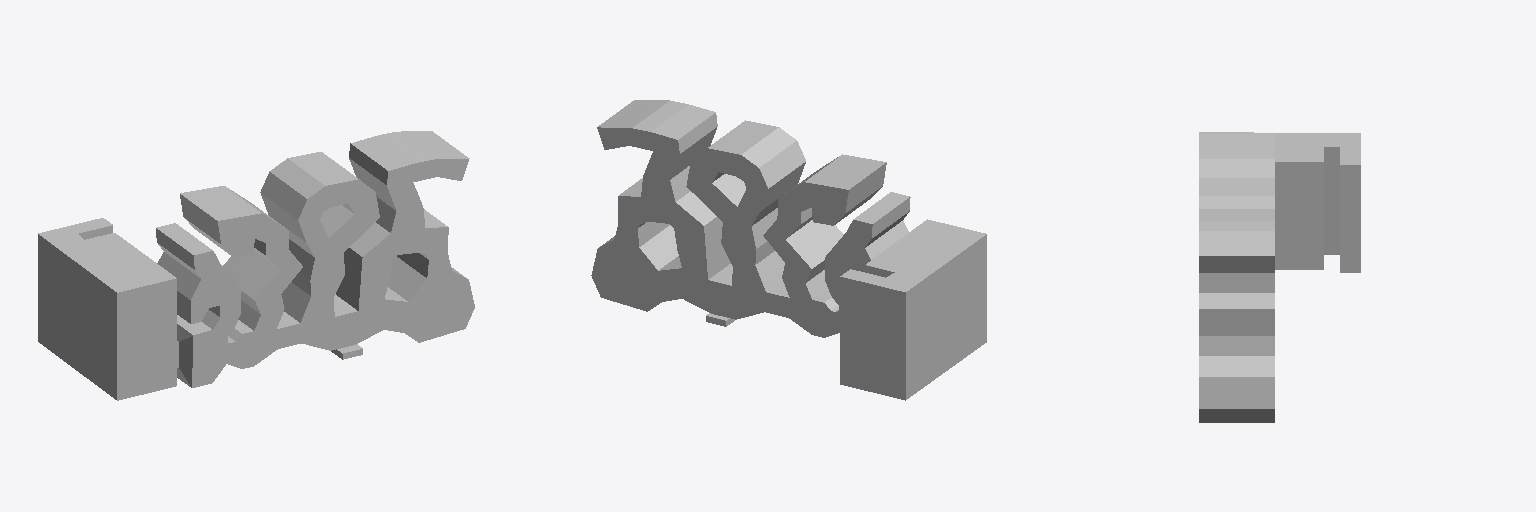
3 views of the same model, side by side, from view 1: azimuth 30°, elevation 25°; view 2: azimuth 150°, elevation 25°; view 3: azimuth 270°, elevation 25° (orthographic).
Visible parts, largest first — view 1: World.MeshShape; view 2: World.MeshShape; view 3: World.MeshShape.
Boxes of the visible parts, x1=… form: World.MeshShape: x1=38, y1=131, x2=474, y2=400; World.MeshShape: x1=591, y1=100, x2=986, y2=400; World.MeshShape: x1=1199, y1=132, x2=1360, y2=422.
Bounding box in the file's own units: 60.45 × 30.04 × 23.55.